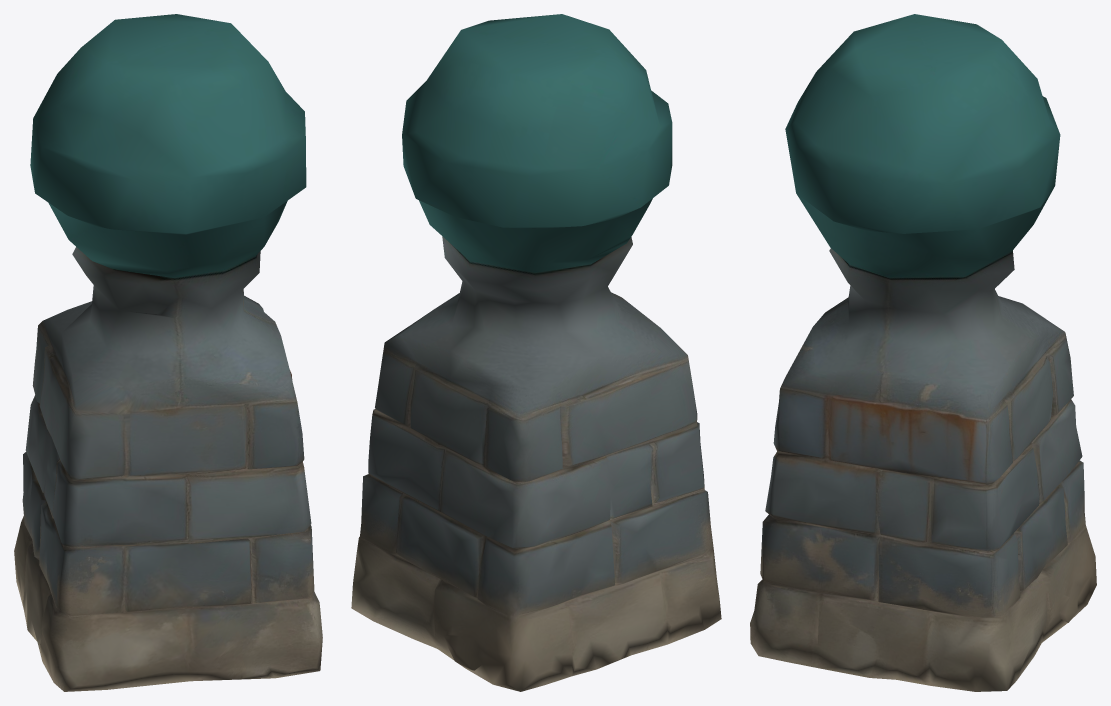
File: lure-lantern-post.glb
3 renders of one model, left to right at view 1: azimuth 30°, elevation 25°; view 2: azimuth 150°, elevation 25°; view 3: azimuth 270°, elevation 25°, orthographic.
Parts seen in each view (by area): view 1: tripo_node_87800099-ede2-4be0-8c31-9f1967b96660; view 2: tripo_node_87800099-ede2-4be0-8c31-9f1967b96660; view 3: tripo_node_87800099-ede2-4be0-8c31-9f1967b96660.
Part boxes in pixels (left/top/right/bottom): tripo_node_87800099-ede2-4be0-8c31-9f1967b96660: left=14, top=14, right=322, bottom=691; tripo_node_87800099-ede2-4be0-8c31-9f1967b96660: left=351, top=14, right=721, bottom=691; tripo_node_87800099-ede2-4be0-8c31-9f1967b96660: left=750, top=14, right=1096, bottom=691.
Bounding box in the file's own units: 0.5284 × 0.9785 × 0.5317.
Materials: 1 (1 with a texture image).
